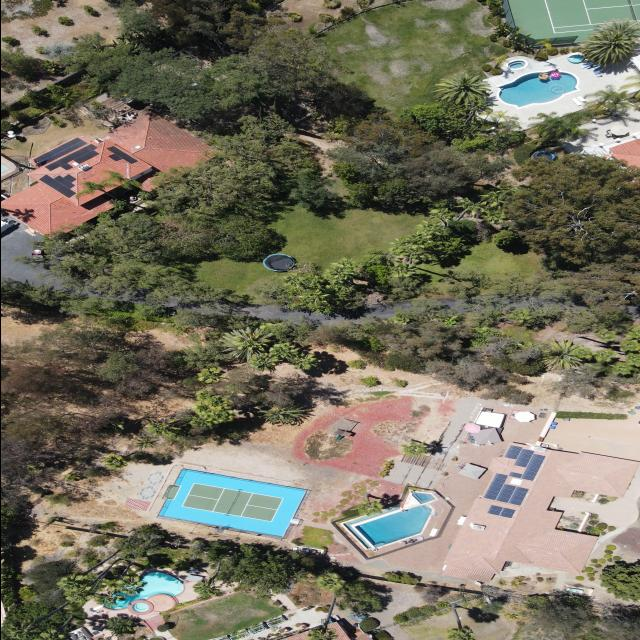solar-panels: (43, 142, 100, 179), (483, 470, 529, 514), (498, 443, 545, 485), (32, 135, 87, 168), (38, 162, 82, 200), (102, 143, 137, 171), (486, 504, 515, 519)
